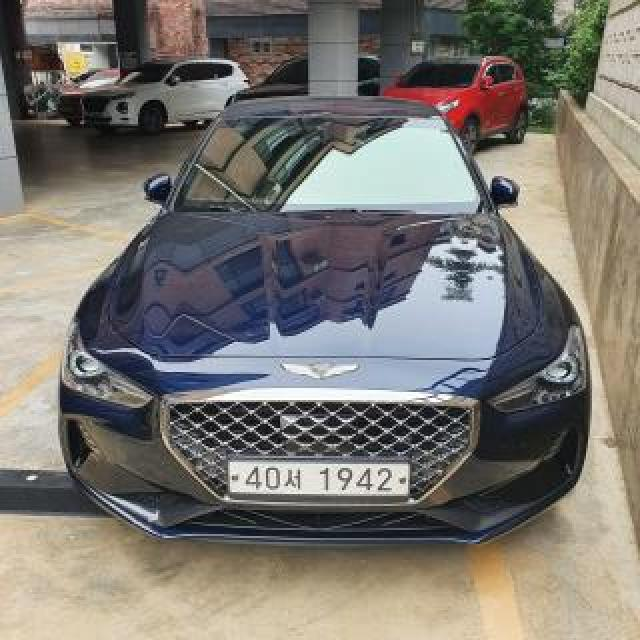car: (58, 84, 596, 561)
illegal_plate: (224, 456, 412, 509)
